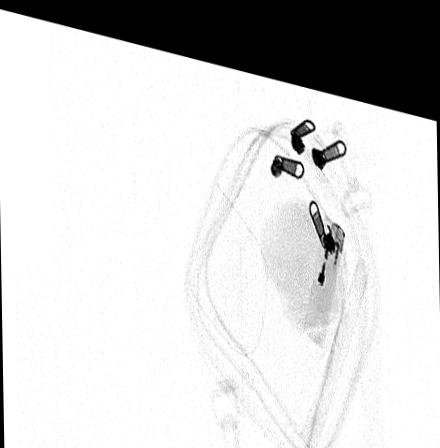Lighter: (302, 194, 345, 332)
